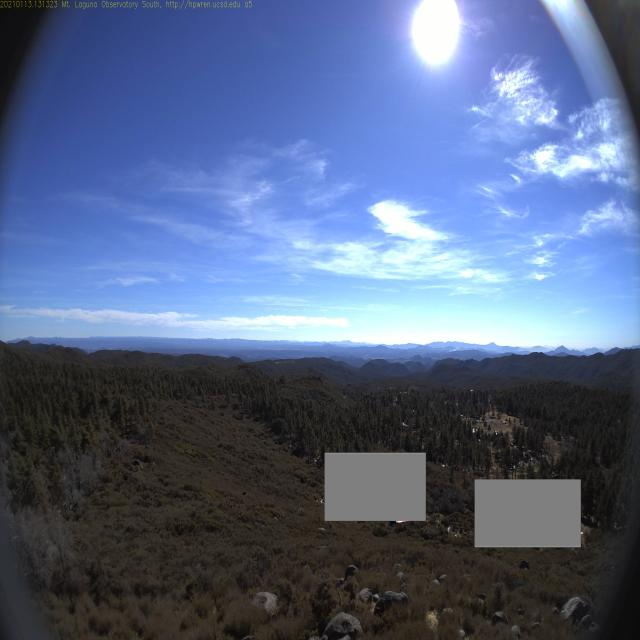smoke: (448, 344, 472, 355)
